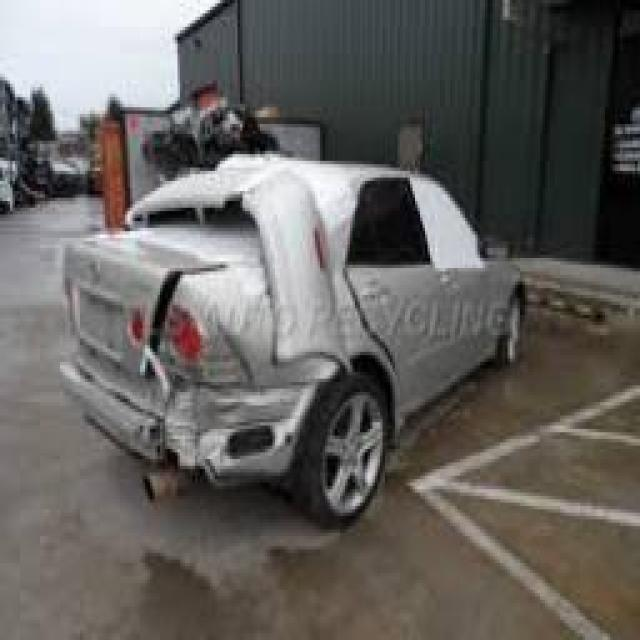replaceable: (44, 384, 316, 475), (124, 303, 244, 390)
